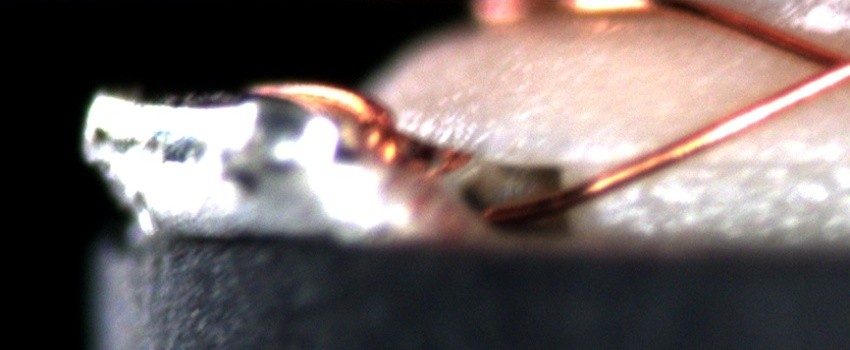CL: (792, 36, 850, 91)
DL: (570, 126, 850, 190)
TE: (246, 75, 411, 158)
